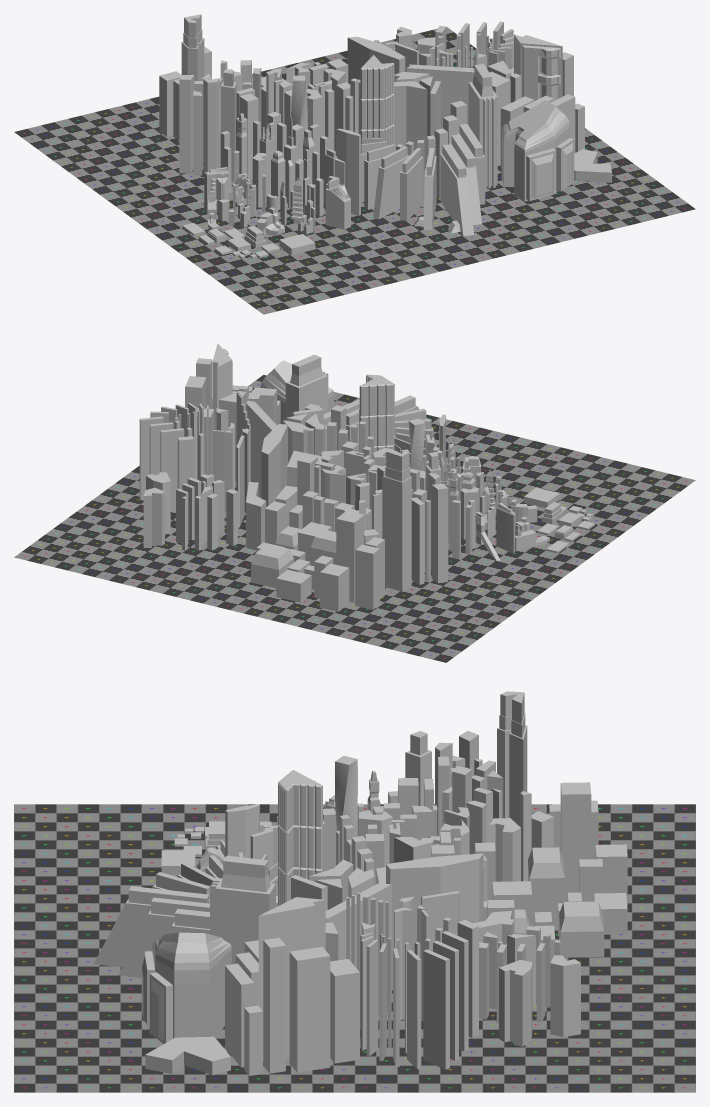
File: city.dae
3 views of the same model, one above another, from view 1: azimuth 30°, elevation 25°; view 2: azimuth 150°, elevation 25°; view 3: azimuth 270°, elevation 25° (orthographic). The views are drawn at different scales.
Visible parts, largest first — view 1: city; view 2: city; view 3: city.
Boxes of the visible parts, left/top/right/bottom form: city: left=14, top=14, right=695, bottom=314; city: left=14, top=343, right=695, bottom=662; city: left=14, top=691, right=695, bottom=1092.
Size of the model in its own units: 69.48 by 69.48 by 20.67.
